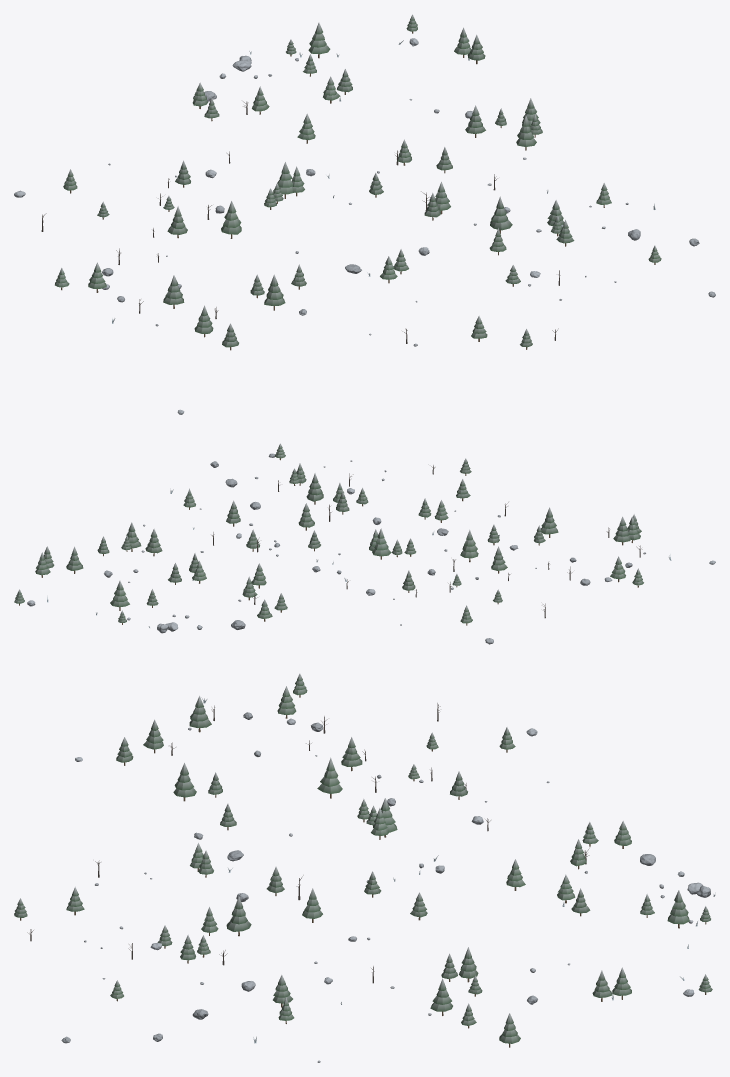
The model's file is frost_land_scatter_c14_11.glb.
3 renders of one model, top to bottom at view 1: azimuth 30°, elevation 25°; view 2: azimuth 150°, elevation 25°; view 3: azimuth 270°, elevation 25°, orthographic. The views are drawn at different scales.
Parts seen in each view (by area): view 1: frost_land_scatter_c14_11; view 2: frost_land_scatter_c14_11; view 3: frost_land_scatter_c14_11.
Boxes of the visible parts, x1,y1,x2,y2 form: frost_land_scatter_c14_11: (14, 14, 715, 414); frost_land_scatter_c14_11: (14, 443, 715, 644); frost_land_scatter_c14_11: (14, 673, 715, 1062).
Bounding box in the file's own units: 258 × 40.87 × 252.
